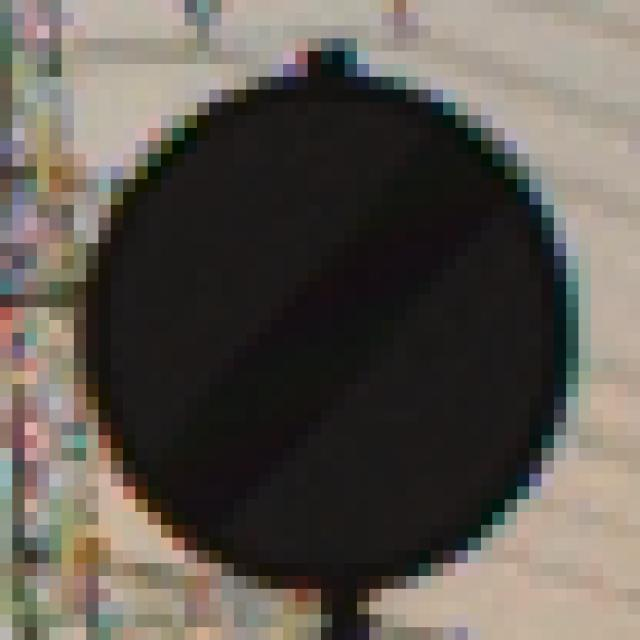restriction ends: (70, 54, 592, 593)
